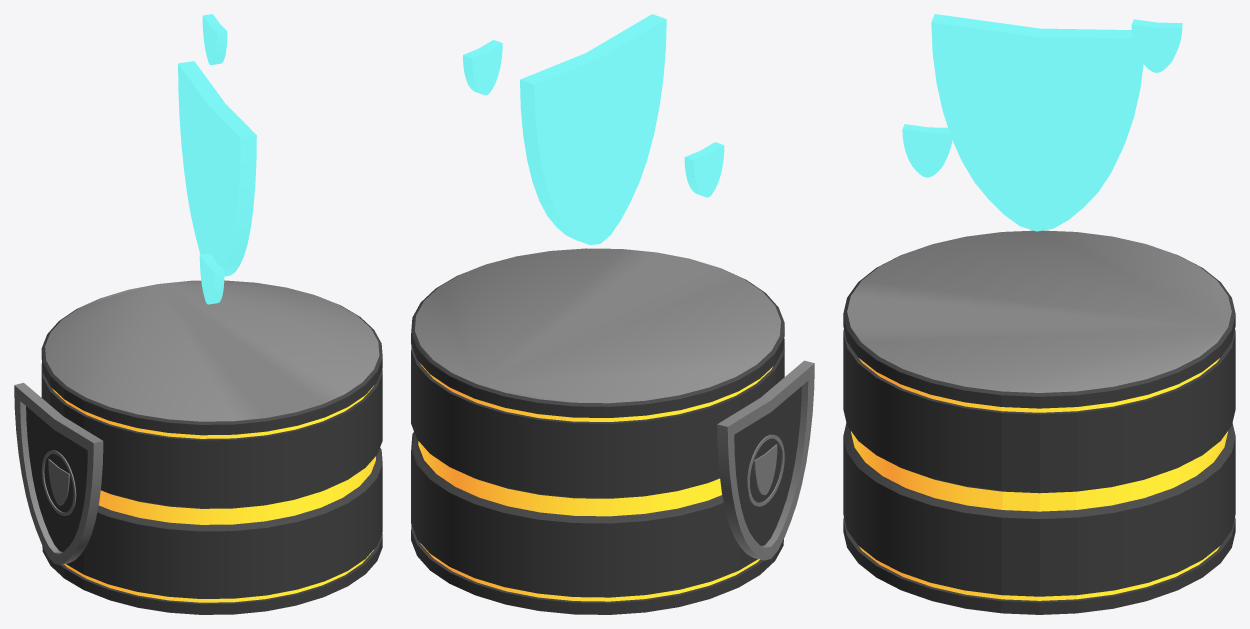
File: powerUp-Armor.fbx
3 views of the same model, side by side, from view 1: azimuth 30°, elevation 25°; view 2: azimuth 150°, elevation 25°; view 3: azimuth 270°, elevation 25° (orthographic). The views are drawn at different scales.
Visible parts, largest first — view 1: Pedana, powerUp-Armor; view 2: Pedana, powerUp-Armor; view 3: Pedana, powerUp-Armor.
Part boxes in pixels (bbox=[...]): Pedana: bbox=[14, 280, 382, 614]; powerUp-Armor: bbox=[178, 14, 256, 304]; Pedana: bbox=[411, 248, 814, 614]; powerUp-Armor: bbox=[463, 14, 724, 245]; Pedana: bbox=[843, 230, 1235, 614]; powerUp-Armor: bbox=[902, 14, 1182, 231].
Bounding box in the file's own units: 126 × 185 × 122.
